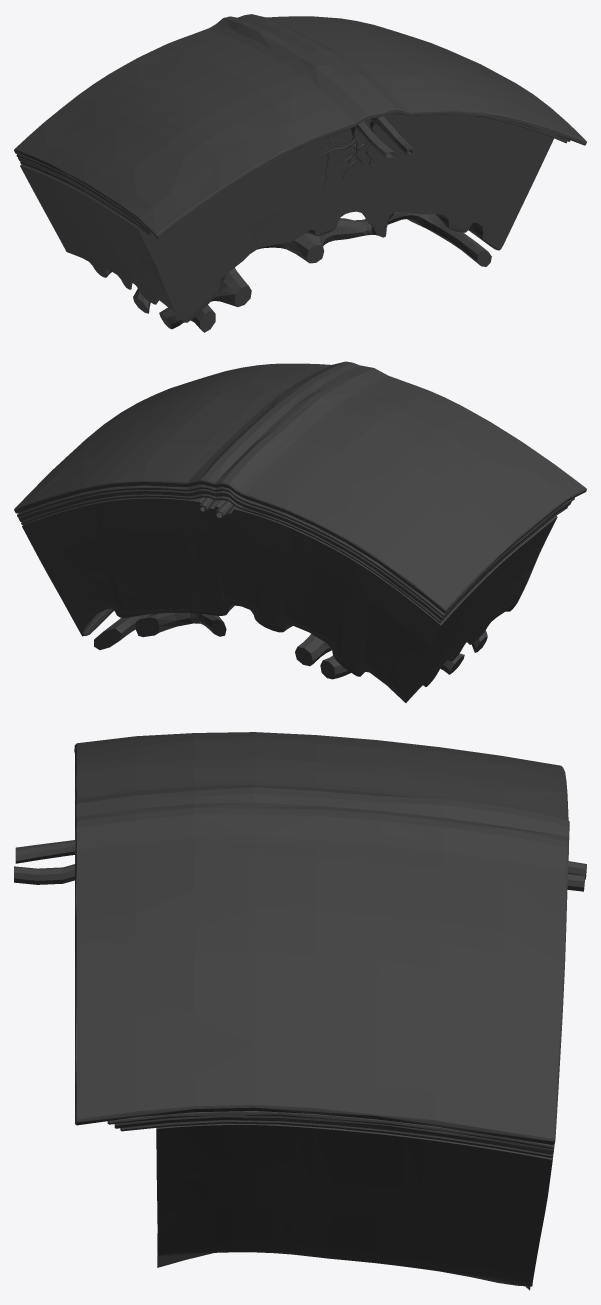
File: sharedassets76.glb
3 renders of one model, top to bottom at view 1: azimuth 30°, elevation 25°; view 2: azimuth 150°, elevation 25°; view 3: azimuth 270°, elevation 25°, orthographic. The views are drawn at different scales.
Parts seen in each view (by area): view 1: 0007_Fibrous pericardium_heart wall_303052, 0005_Myocardium_heart wall_303050, 0006_Endocardium_heart wall_303049, 0000_Branch of coronary vein_heart wall_30305, 0004_Branch of coronary artery_heart wall_303, 0003_Serous pericardium, visceral layer _epic, 0001_Pericardial cavity_heart wall_303053; view 2: 0007_Fibrous pericardium_heart wall_303052, 0005_Myocardium_heart wall_303050, 0006_Endocardium_heart wall_303049, 0001_Pericardial cavity_heart wall_303053, 0002_Serous pericardium, parietal layer_heart, 0003_Serous pericardium, visceral layer _epic; view 3: 0007_Fibrous pericardium_heart wall_303052, 0005_Myocardium_heart wall_303050, 0001_Pericardial cavity_heart wall_303053, 0002_Serous pericardium, parietal layer_heart, 0003_Serous pericardium, visceral layer _epic, 0006_Endocardium_heart wall_303049, 0004_Branch of coronary artery_heart wall_303, 0000_Branch of coronary vein_heart wall_30305.
Part boxes in pixels (x1,y1,x2,y2): 0007_Fibrous pericardium_heart wall_303052: (14, 14, 586, 238); 0005_Myocardium_heart wall_303050: (20, 114, 553, 318); 0006_Endocardium_heart wall_303049: (65, 207, 500, 332); 0000_Branch of coronary vein_heart wall_30305: (306, 122, 395, 187); 0004_Branch of coronary artery_heart wall_303: (324, 116, 414, 172); 0003_Serous pericardium, visceral layer _epic: (20, 113, 567, 235); 0001_Pericardial cavity_heart wall_303053: (18, 113, 570, 234); 0007_Fibrous pericardium_heart wall_303052: (14, 361, 586, 613); 0005_Myocardium_heart wall_303050: (22, 497, 557, 699); 0006_Endocardium_heart wall_303049: (81, 599, 516, 702); 0001_Pericardial cavity_heart wall_303053: (18, 489, 571, 620); 0002_Serous pericardium, parietal layer_heart: (17, 484, 574, 616); 0003_Serous pericardium, visceral layer _epic: (21, 494, 567, 623); 0007_Fibrous pericardium_heart wall_303052: (74, 732, 569, 1144); 0005_Myocardium_heart wall_303050: (156, 1123, 552, 1283); 0001_Pericardial cavity_heart wall_303053: (114, 1115, 553, 1154); 0002_Serous pericardium, parietal layer_heart: (107, 1111, 554, 1149); 0003_Serous pericardium, visceral layer _epic: (120, 1120, 553, 1157); 0006_Endocardium_heart wall_303049: (157, 1233, 532, 1290); 0004_Branch of coronary artery_heart wall_303: (14, 864, 584, 891); 0000_Branch of coronary vein_heart wall_30305: (15, 840, 586, 879).
Size of the model in its own units: 0.5632 by 0.284 by 0.3815.
Materials: 1 (1 with a texture image).
